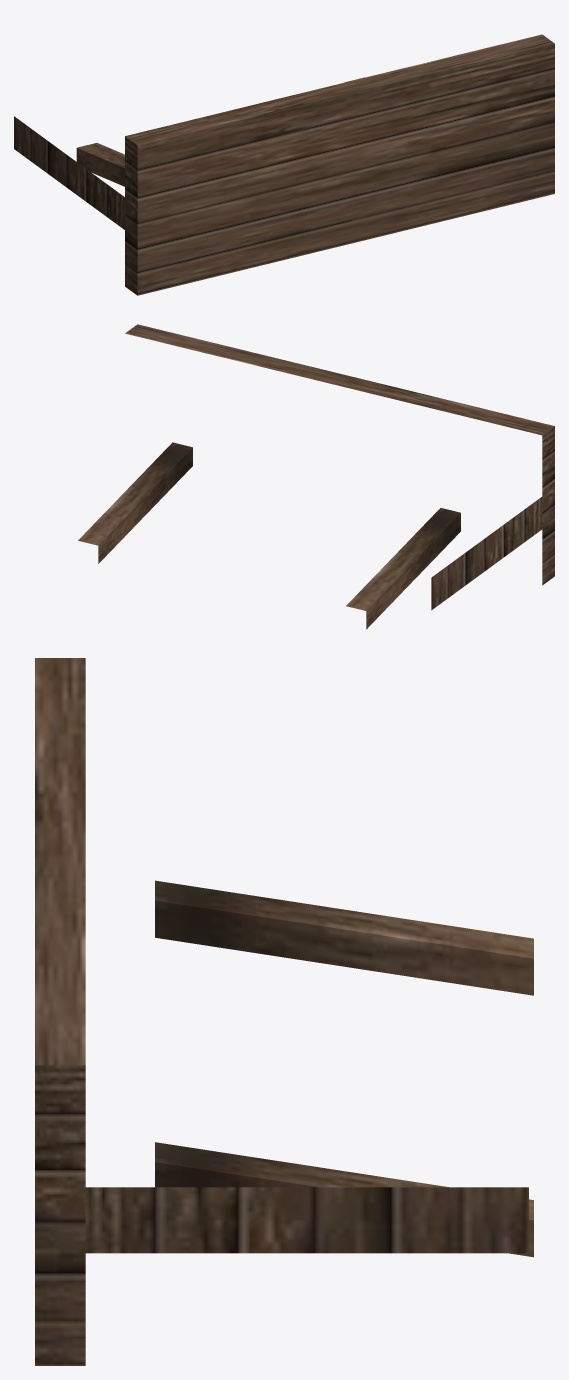
The picture shows the model from 3 angles, top to bottom: view 1: azimuth 30°, elevation 25°; view 2: azimuth 150°, elevation 25°; view 3: azimuth 270°, elevation 25°; orthographic projection. The views are drawn at different scales.
Visible parts, largest first — view 1: model_Object24; view 2: model_Object24; view 3: model_Object24.
Boxes of the visible parts, left/top/right/bottom form: model_Object24: left=14, top=34, right=554, bottom=295; model_Object24: left=78, top=324, right=554, bottom=629; model_Object24: left=35, top=658, right=533, bottom=1365.
Bounding box in the file's own units: 2.03 × 0.6999 × 1.05.
1 material, 1 textured.
